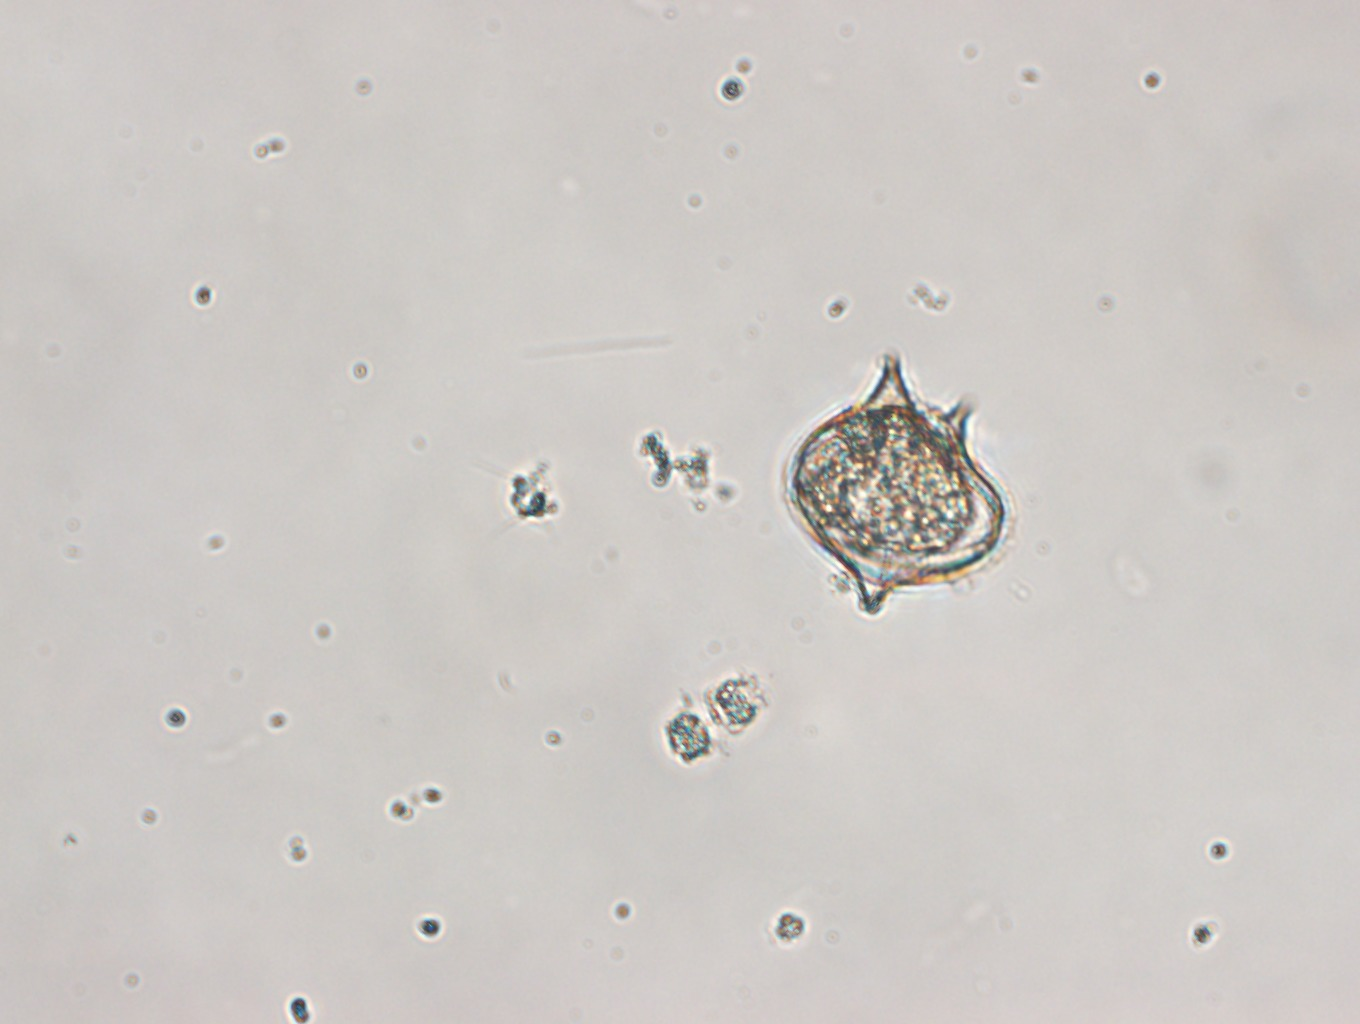protoperidinium: (782, 349, 1008, 615)
